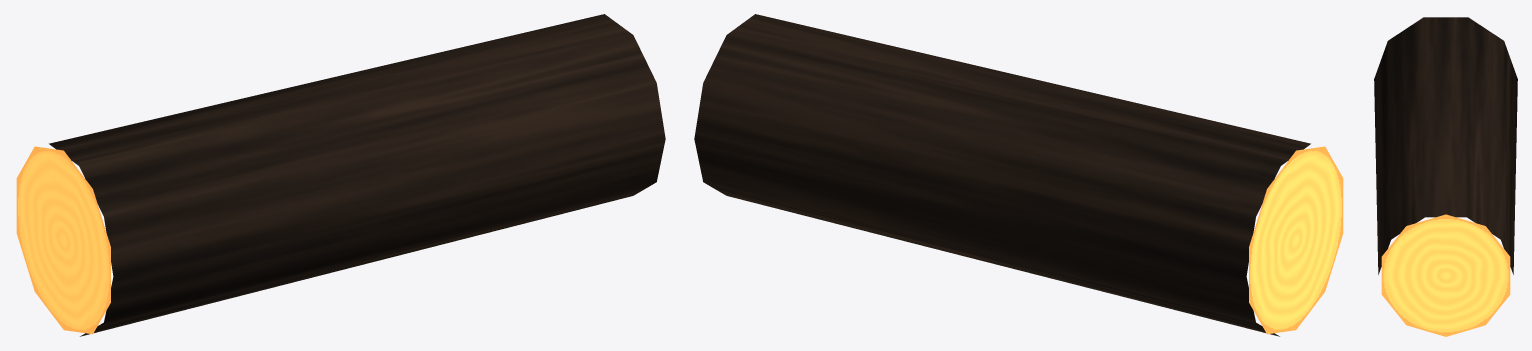
Rendered from firelog.glb.
3 renders of one model, left to right at view 1: azimuth 30°, elevation 25°; view 2: azimuth 150°, elevation 25°; view 3: azimuth 270°, elevation 25°, orthographic. The views are drawn at different scales.
Parts seen in each view (by area): view 1: firelog; view 2: firelog; view 3: firelog.
Part boxes in pixels (left/top/right/bottom): firelog: left=16, top=14, right=665, bottom=336; firelog: left=694, top=14, right=1343, bottom=336; firelog: left=1374, top=17, right=1517, bottom=336.
Size of the model in its own units: 1.1 by 0.34 by 0.34.
2 materials, 2 textured.
